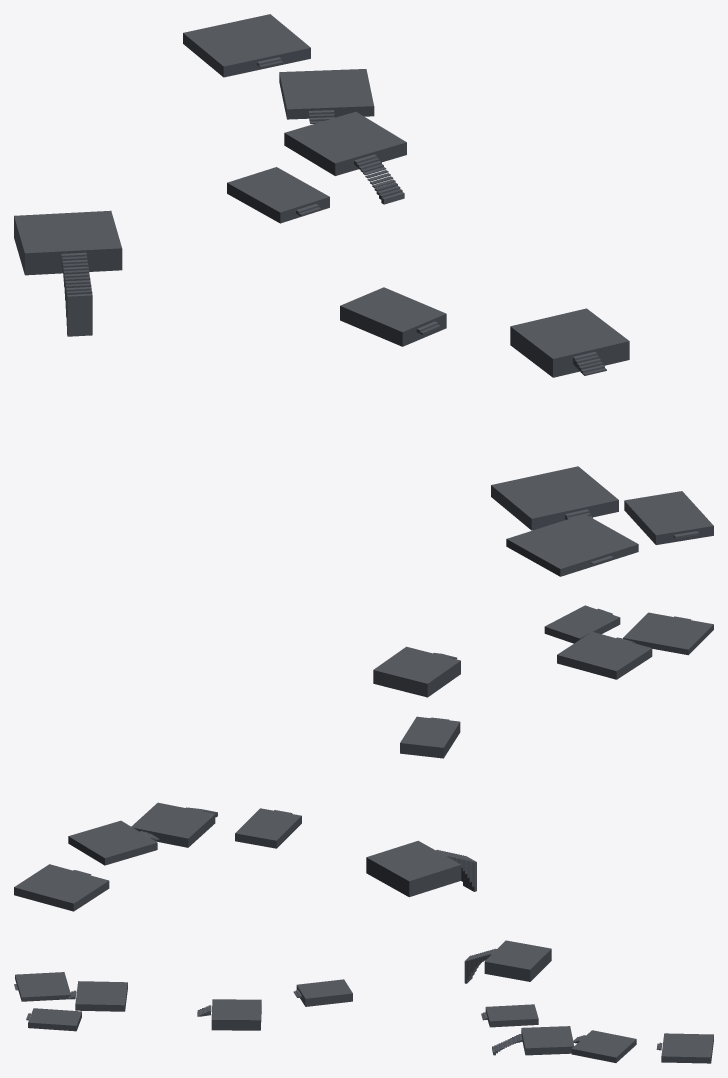
The model's file is village_bases.glb.
3 views of the same model, one above another, from view 1: azimuth 30°, elevation 25°; view 2: azimuth 150°, elevation 25°; view 3: azimuth 270°, elevation 25° (orthographic). The views are drawn at different scales.
Visible parts, largest first — view 1: village_bases; view 2: village_bases; view 3: village_bases.
Part boxes in pixels (bbox=[...]): village_bases: bbox=[14, 14, 713, 576]; village_bases: bbox=[14, 605, 713, 911]; village_bases: bbox=[14, 940, 713, 1063].
Size of the model in its own units: 48.29 by 8.94 by 119.
Materials: 1 (1 with a texture image).
